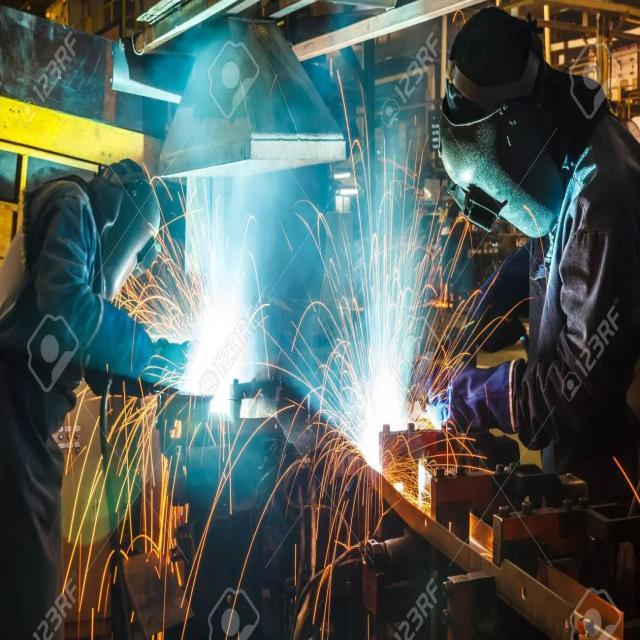with_helmet: (428, 2, 630, 446), (10, 154, 181, 637)
